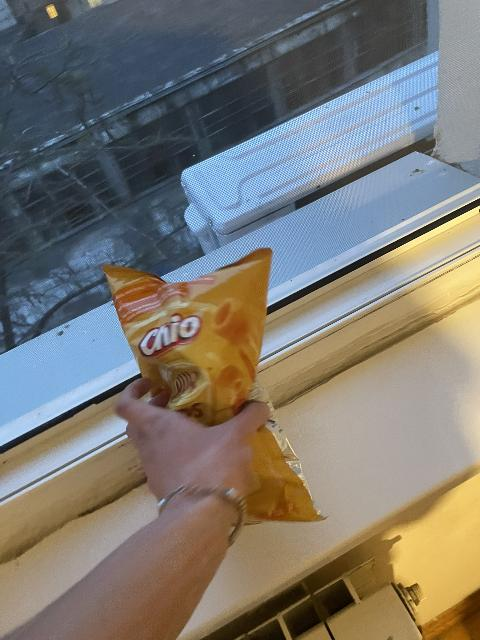Chio Hula Hoops Cheese 70g: (102, 246, 326, 521)
